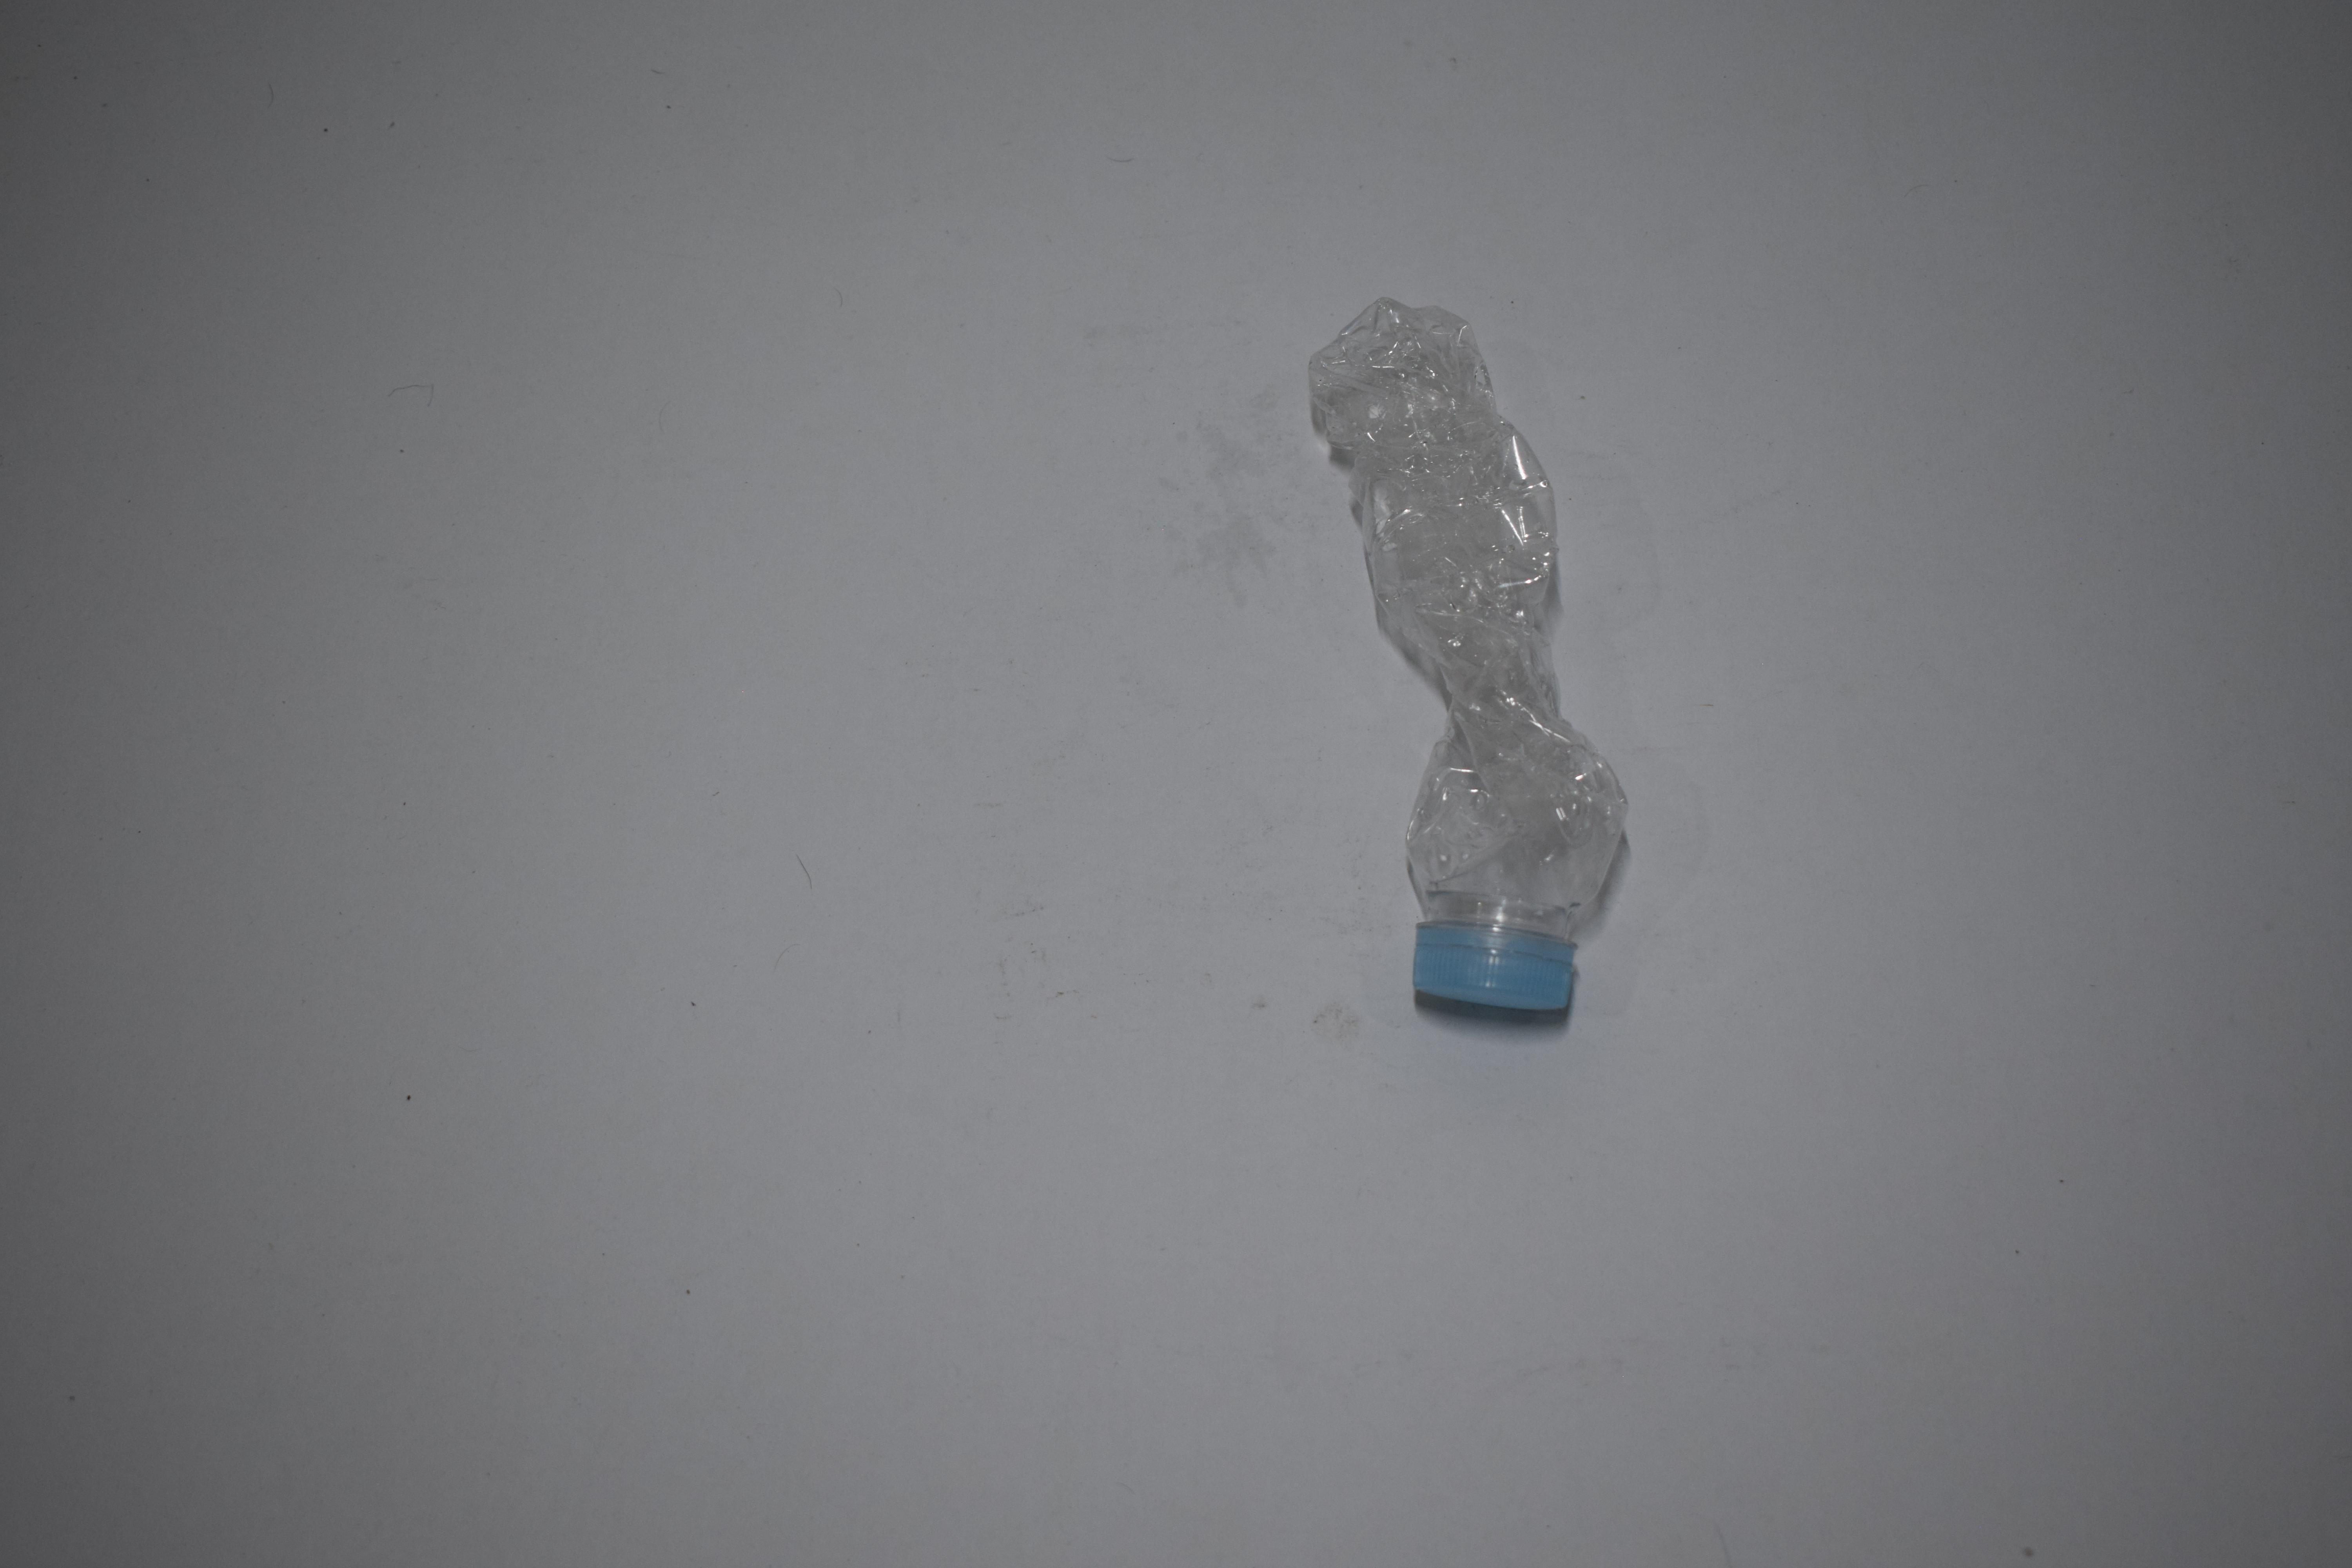bottle: (0, 159, 194, 740)
